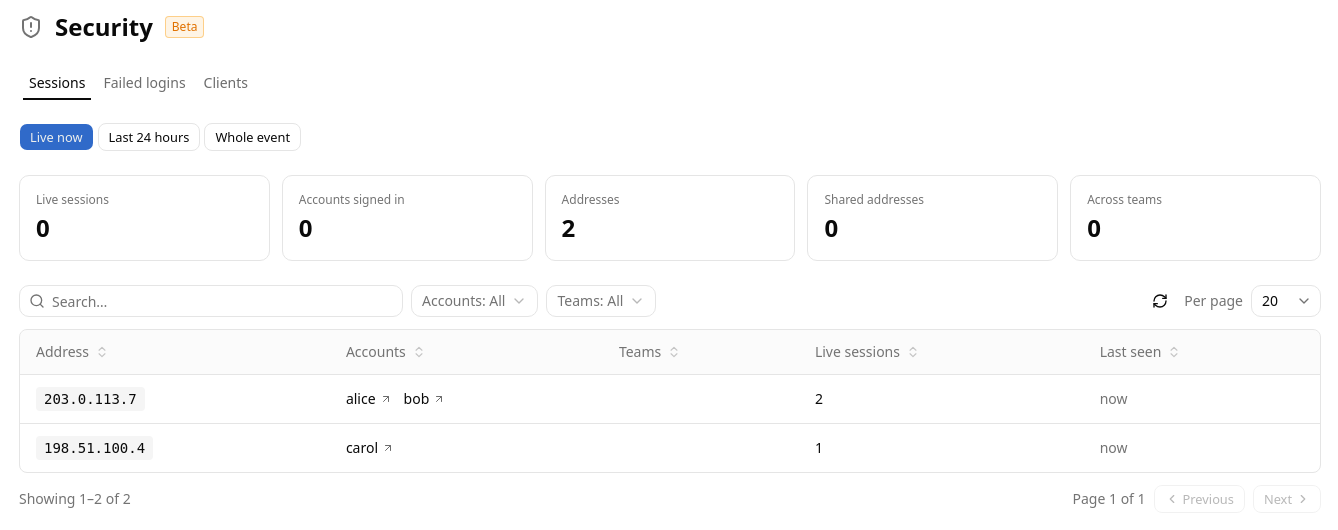
finds an address by its IP or by an account on it
Expected: the text "203.0.113.7" is shown, [36,387,145,411]
Type "carol" into the field with placeholder "Search…" at (211, 301), box [19,285,403,317]
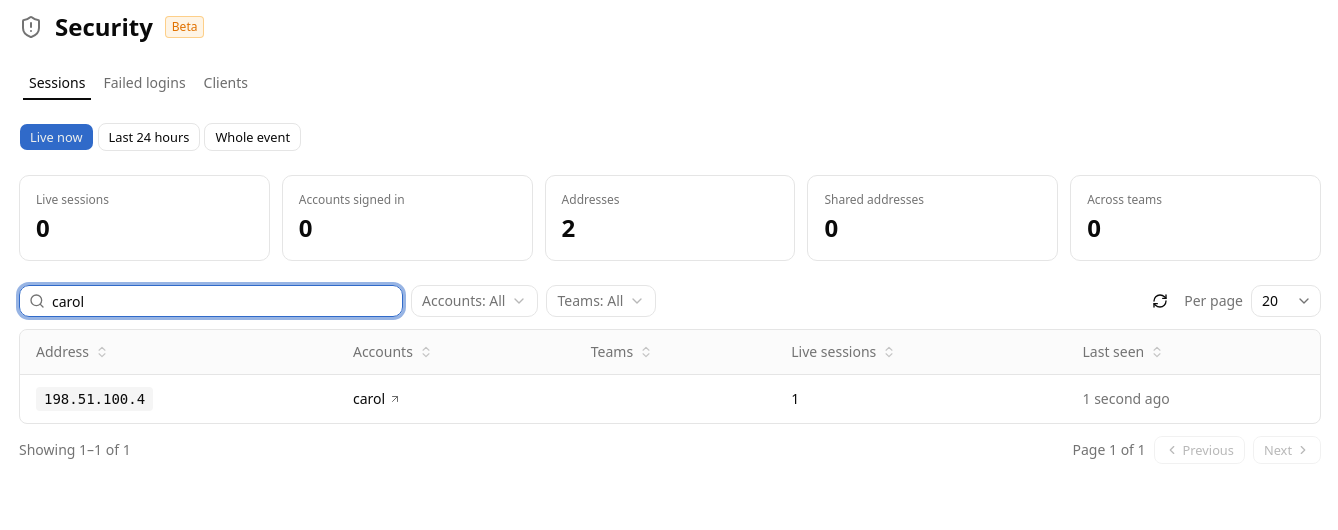
Expected: the text "198.51.100.4" is shown, [36,387,153,411]
Expected: the text "203.0.113.7" is gone
